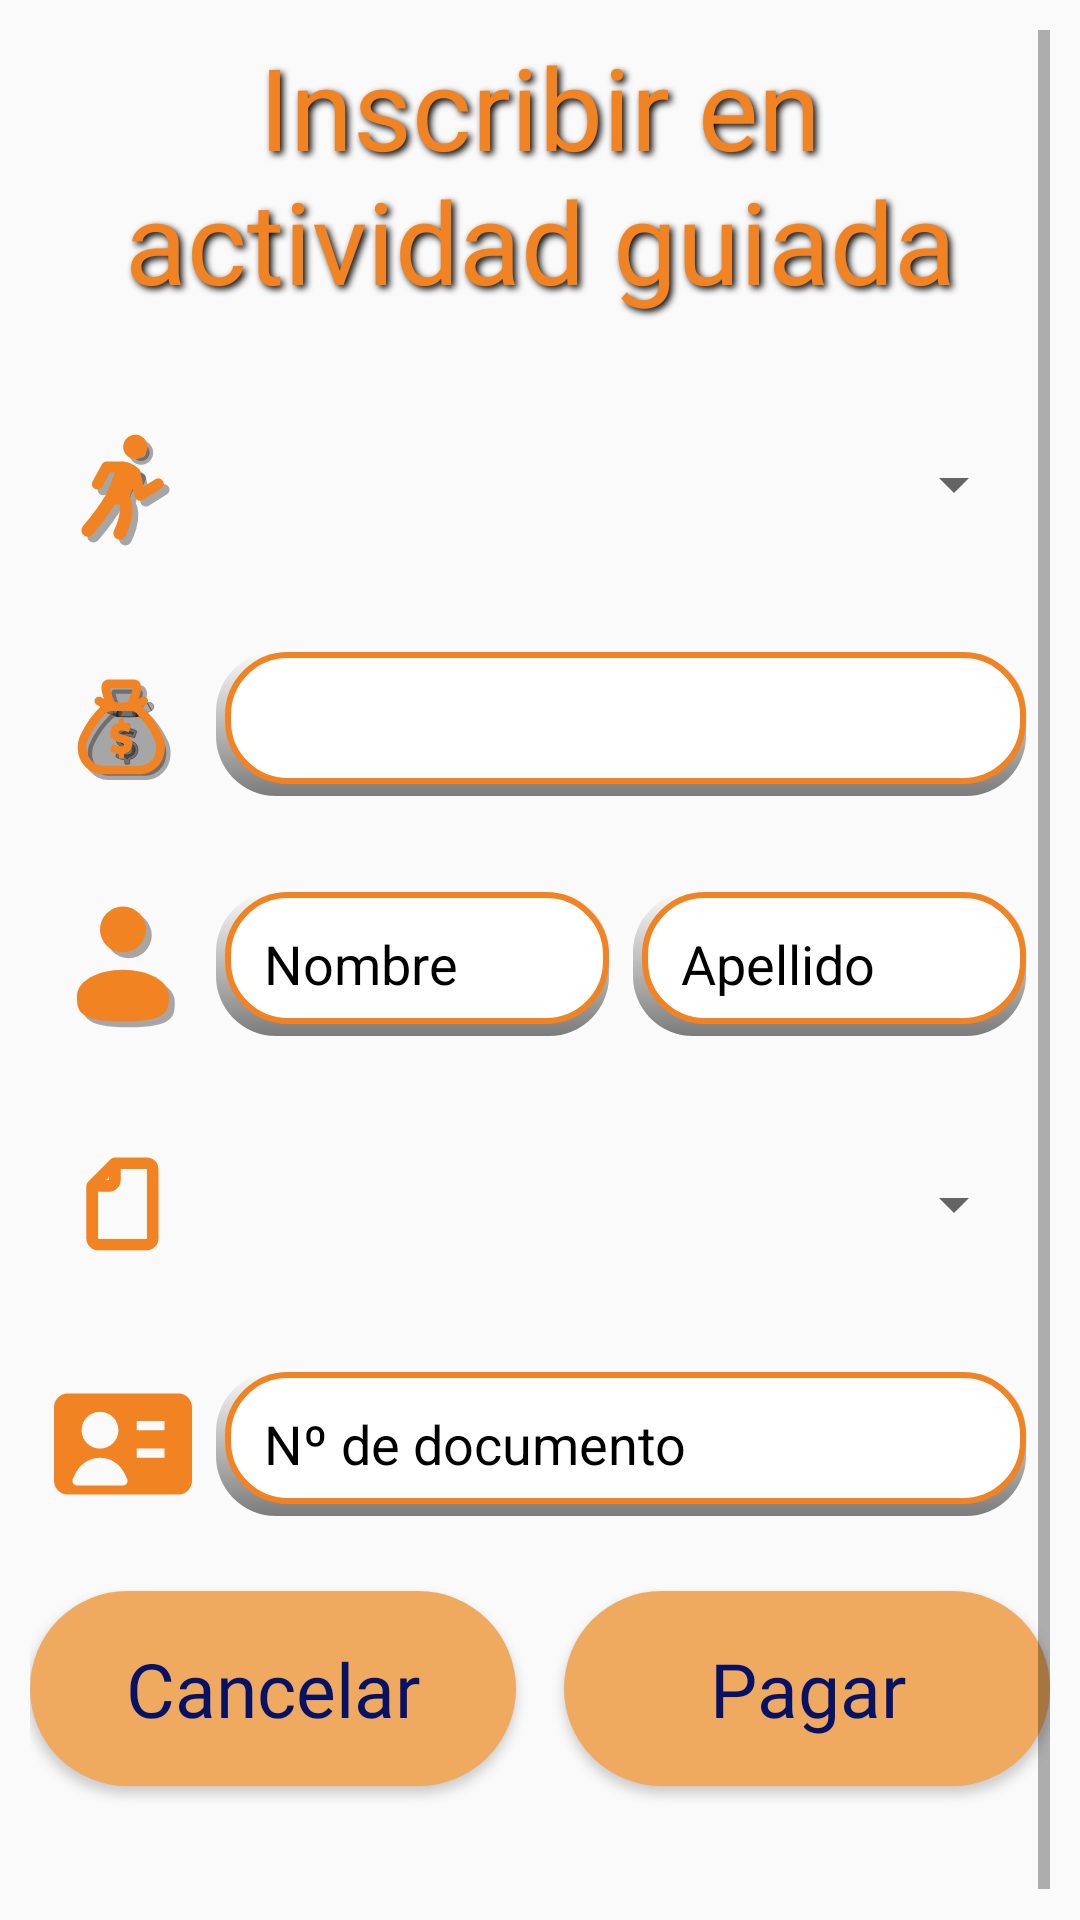

Icons on this 1080 × 1920 Android screen, each with its box as (left=x1, top=y1, right=x2, bottom=y2):
Ícono actividad: (left=81, top=434, right=170, bottom=546)
Ícono dinero: (left=77, top=679, right=171, bottom=780)
Ícono documento: (left=86, top=1157, right=159, bottom=1251)
Ícono número documento: (left=54, top=1393, right=192, bottom=1495)
Ícono persona: (left=77, top=906, right=175, bottom=1027)
